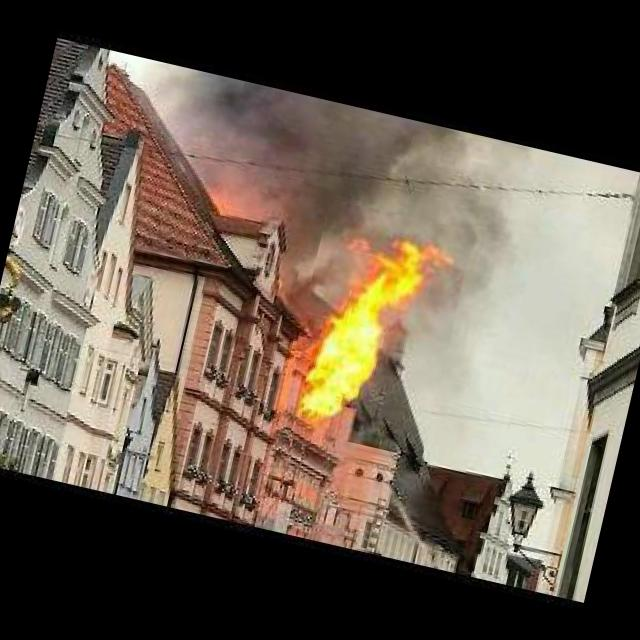fire: (277, 198, 474, 458)
